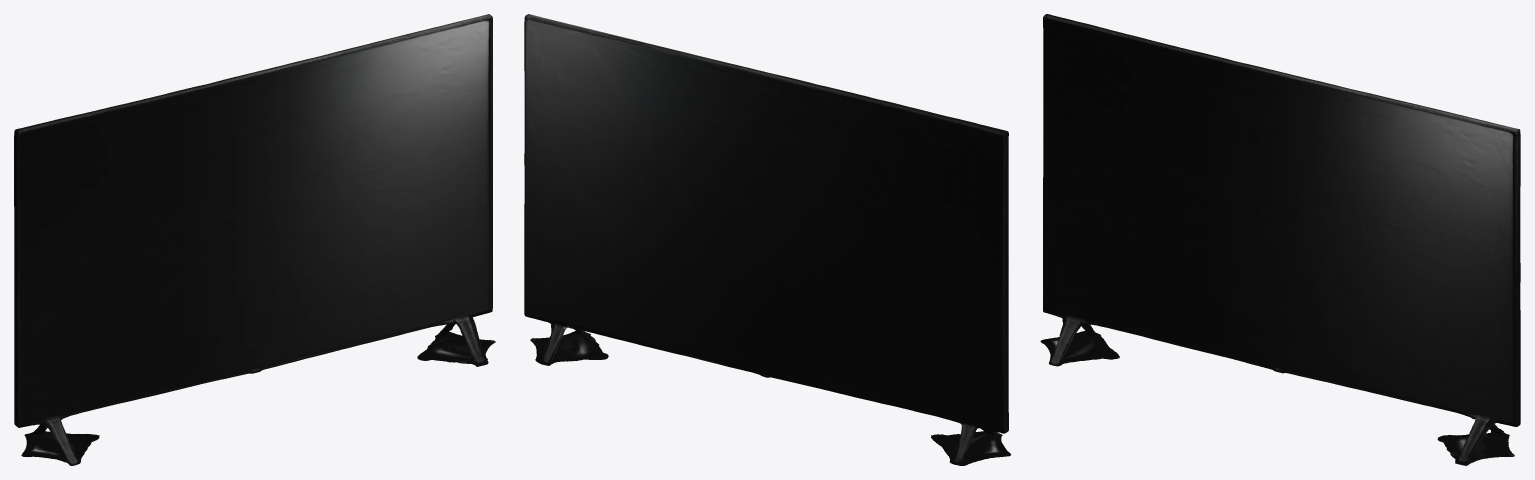
The model's file is e353f1b4-ae66-4885-a4e9-33e9f1eaeeaa.glb.
3 views of the same model, side by side, from view 1: azimuth 30°, elevation 25°; view 2: azimuth 150°, elevation 25°; view 3: azimuth 330°, elevation 25° (orthographic).
Parts seen in each view (by area): view 1: world; view 2: world; view 3: world.
Boxes of the visible parts, x1,y1,x2,y2 form: world: (14,14,495,465); world: (524,14,1011,465); world: (1040,14,1520,465).
Bounding box in the file's own units: 1 × 0.655 × 0.1546.
Materials: 1 (1 with a texture image).
